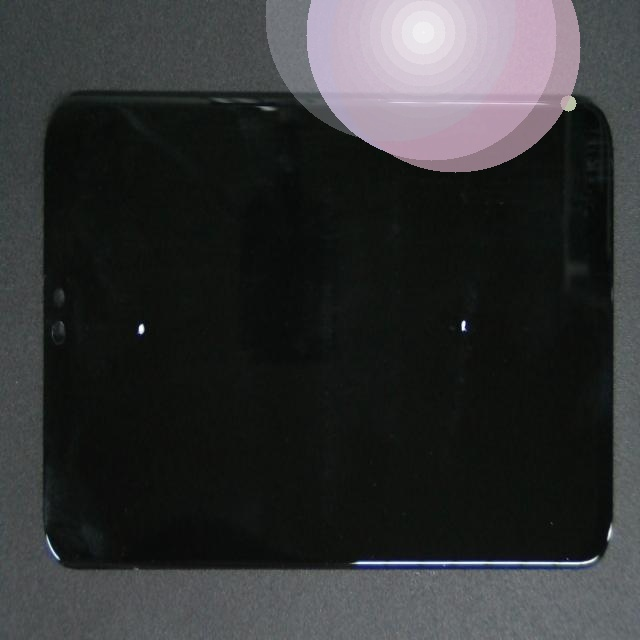stain: (250, 128, 640, 448), (74, 141, 206, 471)
